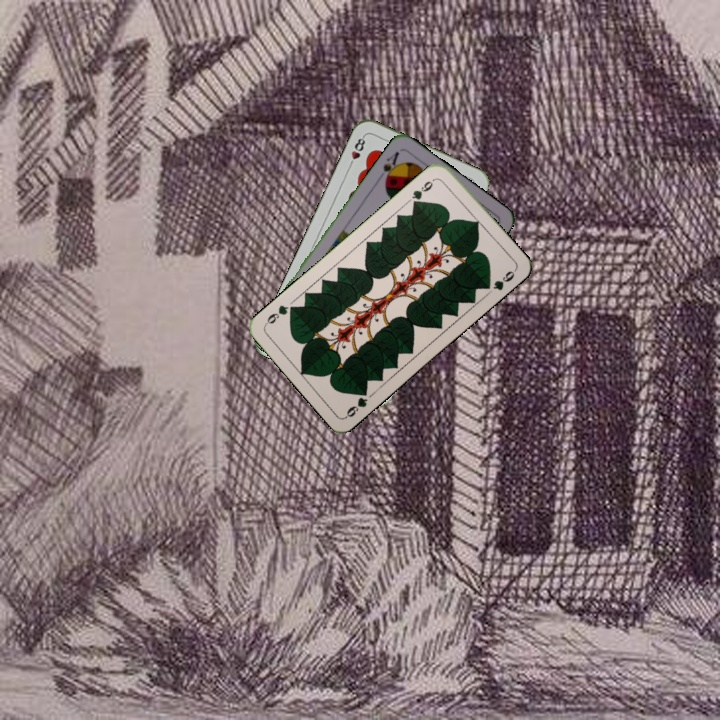G9: (407, 174, 438, 208), (342, 384, 370, 420)
H8: (345, 132, 368, 170)
SA: (374, 147, 403, 186)
